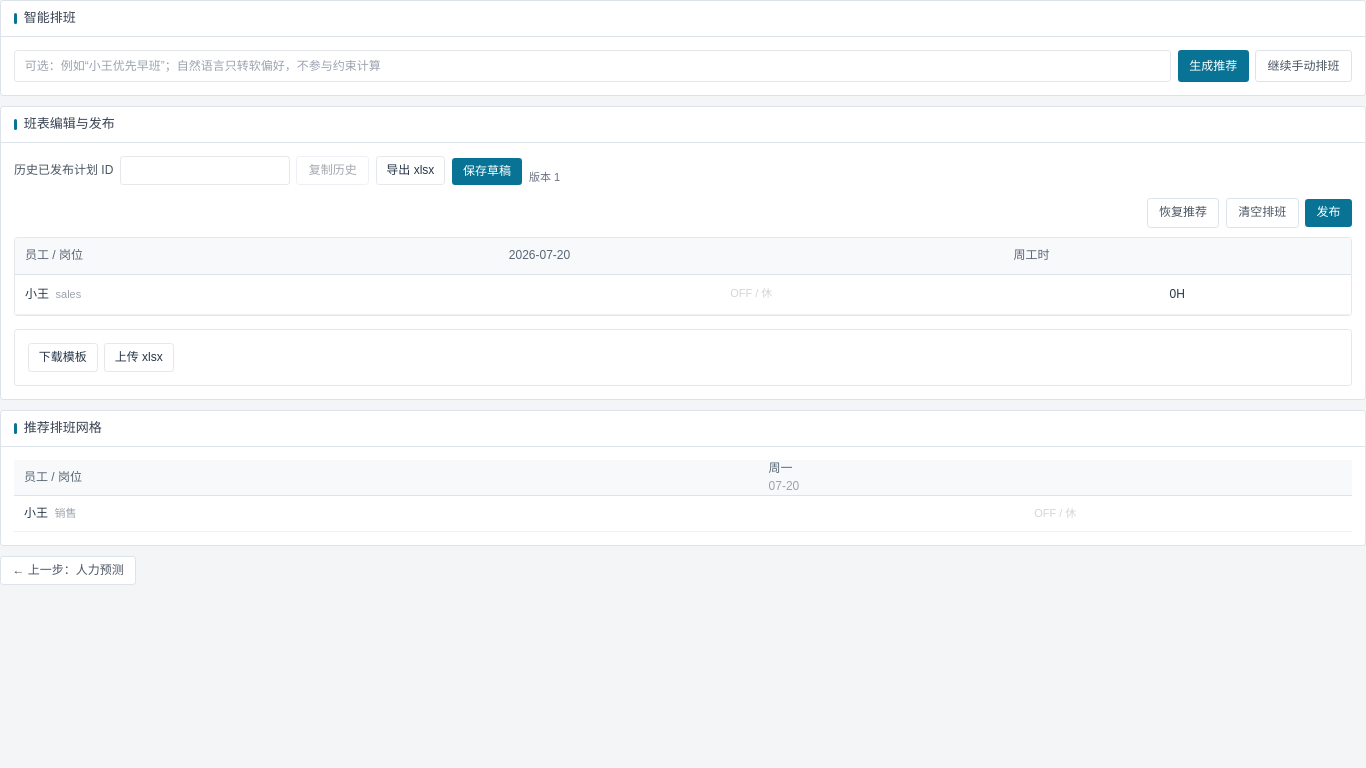
blocks adjacent shifts in the shared client validator and shows the cell issue
Click the button with test id "cell-e1-2026-07-20" at (751, 294), box [509, 275, 994, 314]
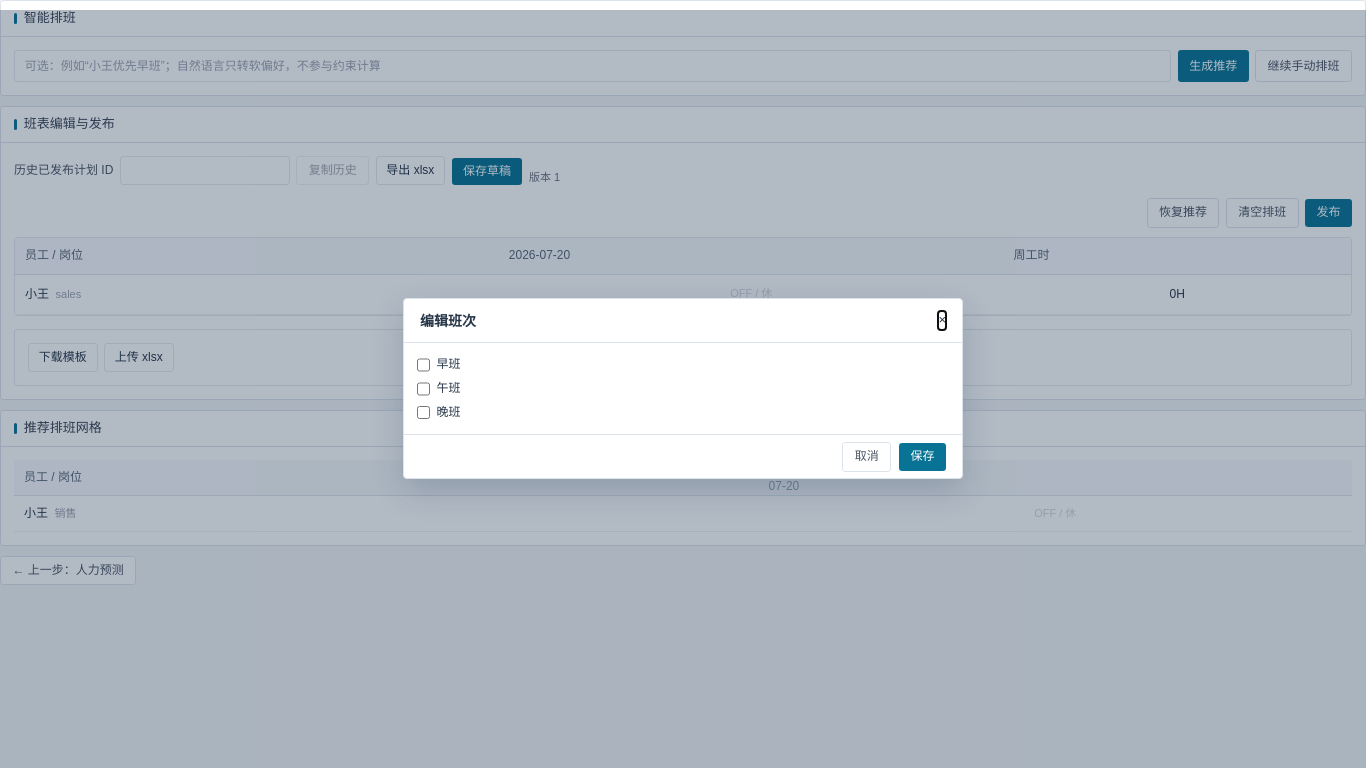
Click the checkbox labelled "早班" at (424, 365), box [417, 356, 430, 374]
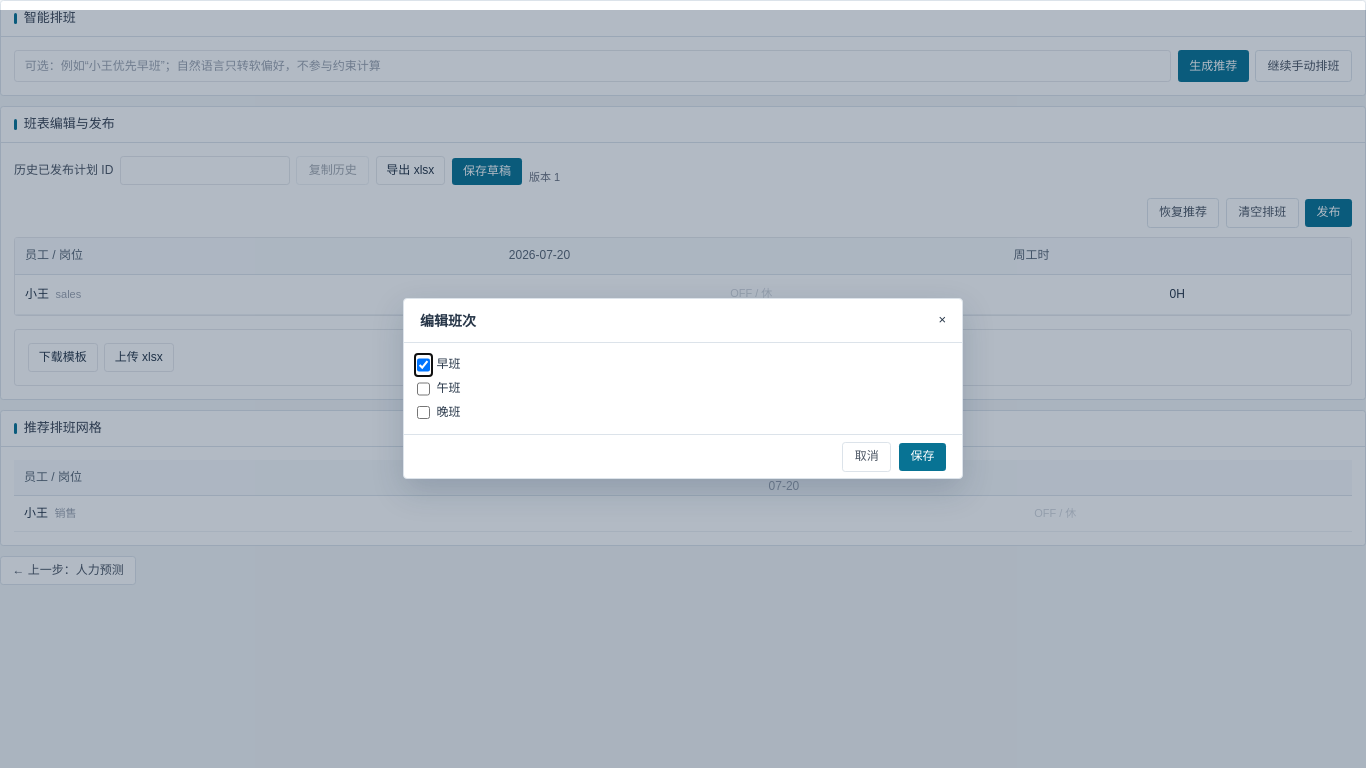
Click the checkbox labelled "午班" at (424, 389), box [417, 380, 430, 398]
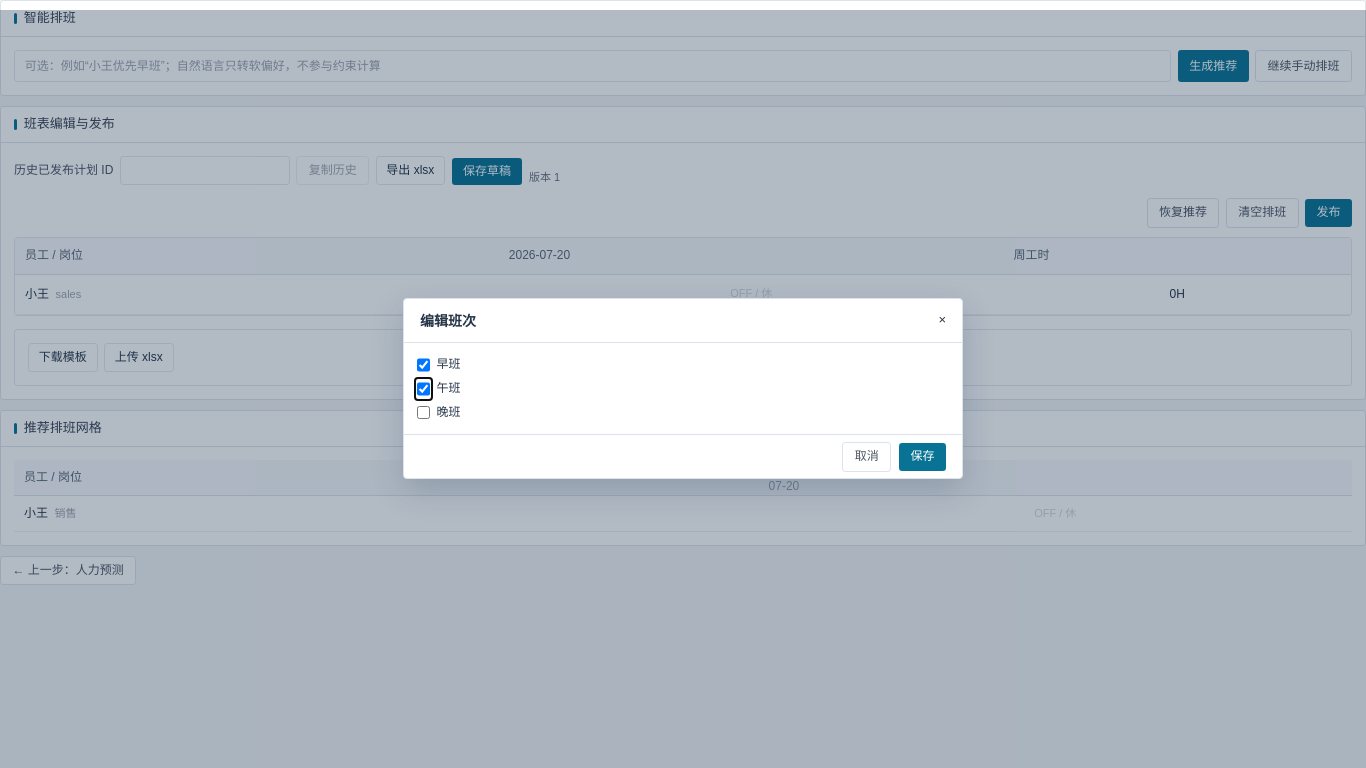
Click the button "保存" at (923, 457), box [899, 443, 946, 470]
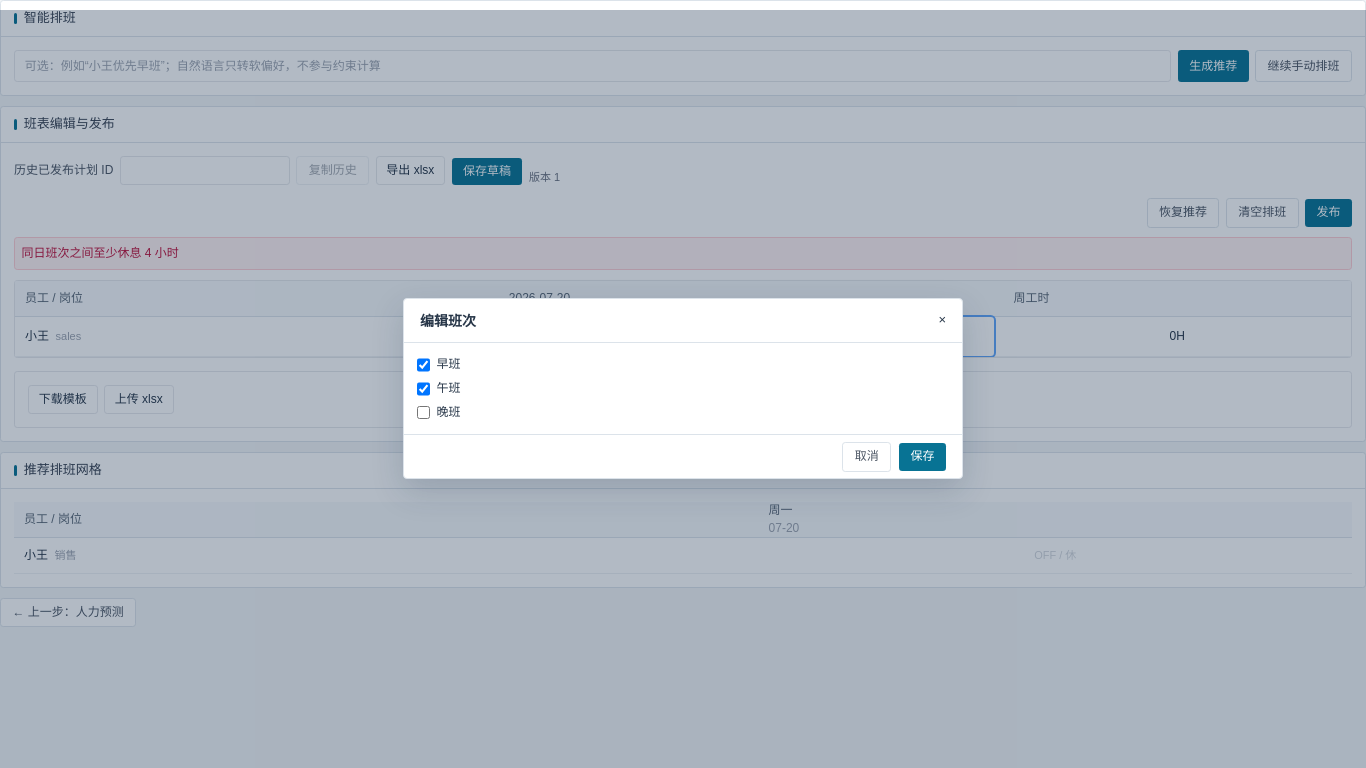
Expected: the text "同日班次之间至少休息 4 小时" is shown, [22, 246, 179, 260]
